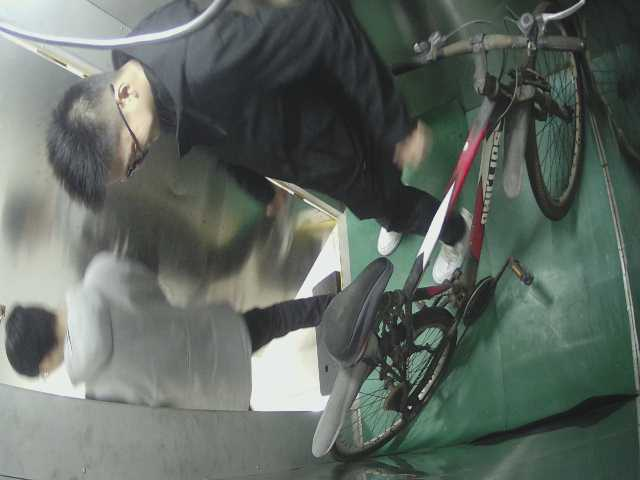bicycle: (308, 1, 592, 469)
person: (47, 1, 476, 277)
